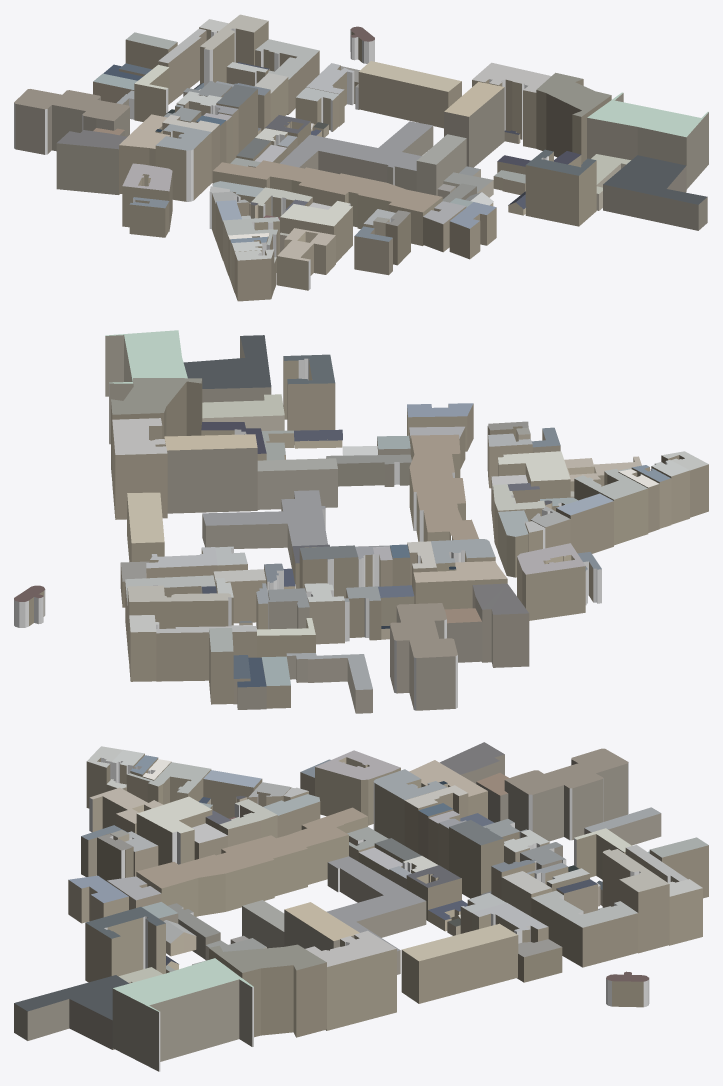
3 views of the same model, one above another, from view 1: azimuth 30°, elevation 25°; view 2: azimuth 150°, elevation 25°; view 3: azimuth 270°, elevation 25° (orthographic). The views are drawn at different scales.
Visible parts, largest first — view 1: tuile; view 2: tuile; view 3: tuile.
Boxes of the visible parts, bbox=[...] form: tuile: bbox=[14, 14, 708, 301]; tuile: bbox=[14, 330, 708, 713]; tuile: bbox=[14, 742, 708, 1071].
Size of the model in its own units: 282 by 35.02 by 292.
